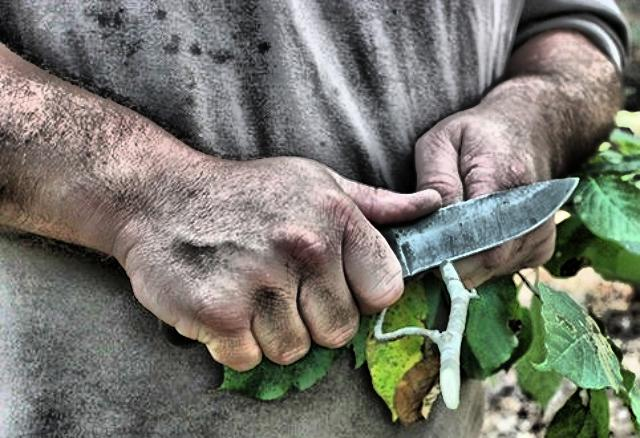knife: (256, 172, 586, 366)
